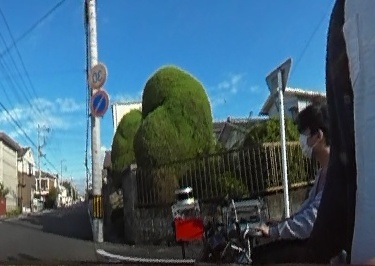person: (282, 100, 336, 266)
